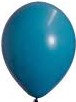Balloon: (1, 2, 76, 98)
